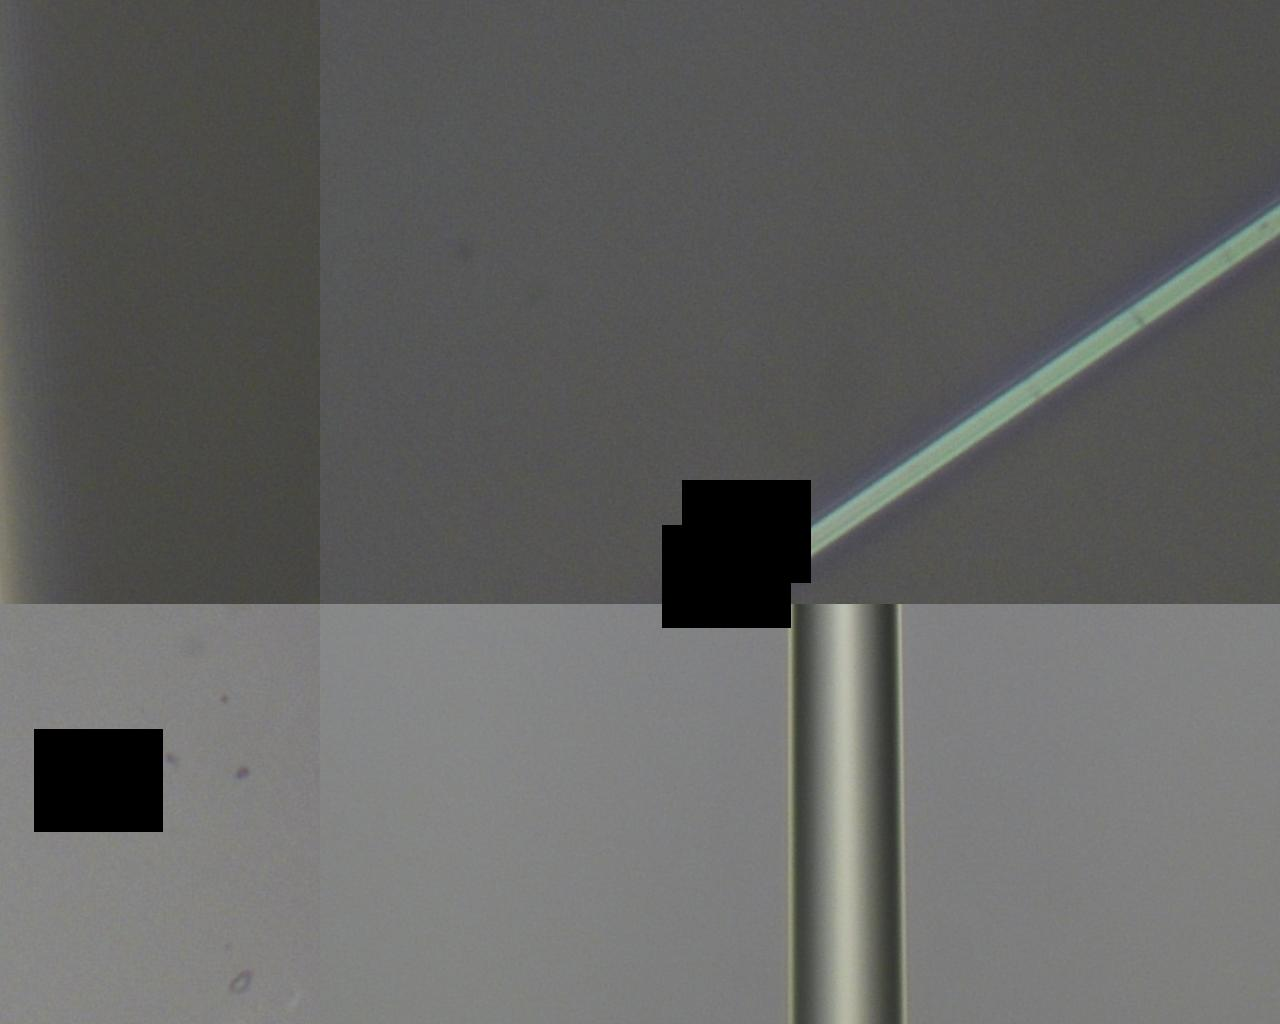fiber: (866, 440, 1137, 1024), (906, 165, 1064, 440), (0, 825, 583, 872)
